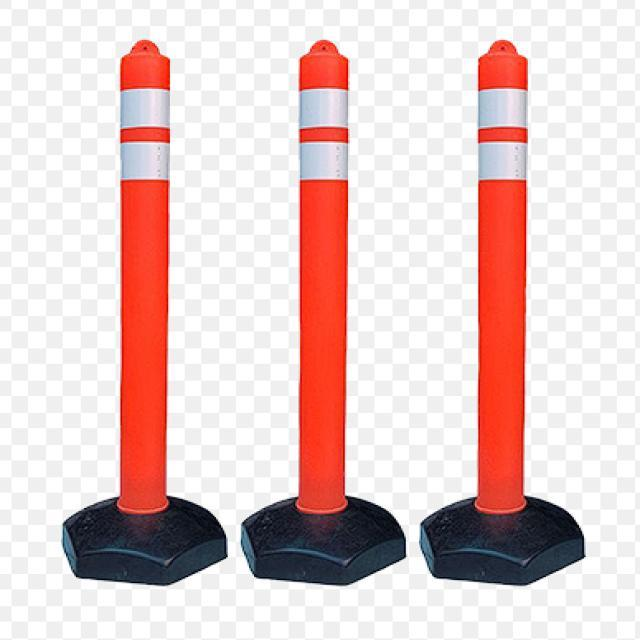obstacle: (113, 36, 171, 512), (294, 37, 352, 510), (474, 35, 530, 509)
